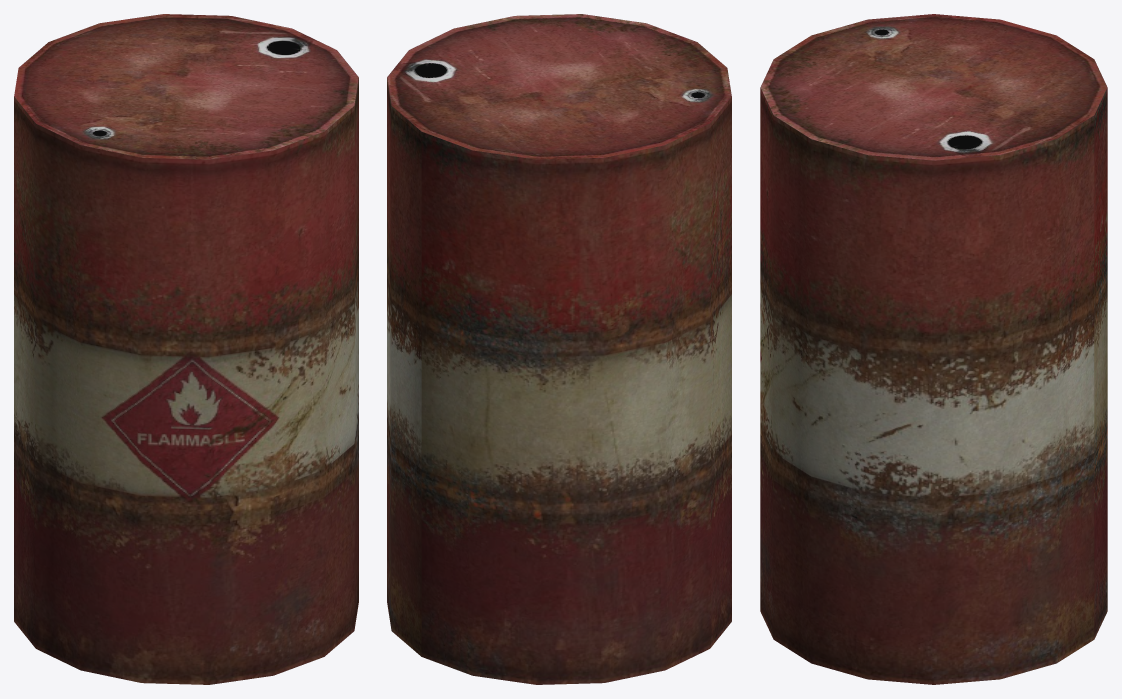
File: oildrum.obj
3 renders of one model, left to right at view 1: azimuth 30°, elevation 25°; view 2: azimuth 150°, elevation 25°; view 3: azimuth 270°, elevation 25°, orthographic.
Visible parts, largest first — view 1: Cylinder002; view 2: Cylinder002; view 3: Cylinder002.
Boxes of the visible parts, x1=… form: Cylinder002: x1=14, y1=14, x2=358, y2=684; Cylinder002: x1=387, y1=14, x2=731, y2=684; Cylinder002: x1=760, y1=14, x2=1107, y2=684.
Bounding box in the file's own units: 0.6 × 1 × 0.6.
Materials: 1 (1 with a texture image).
